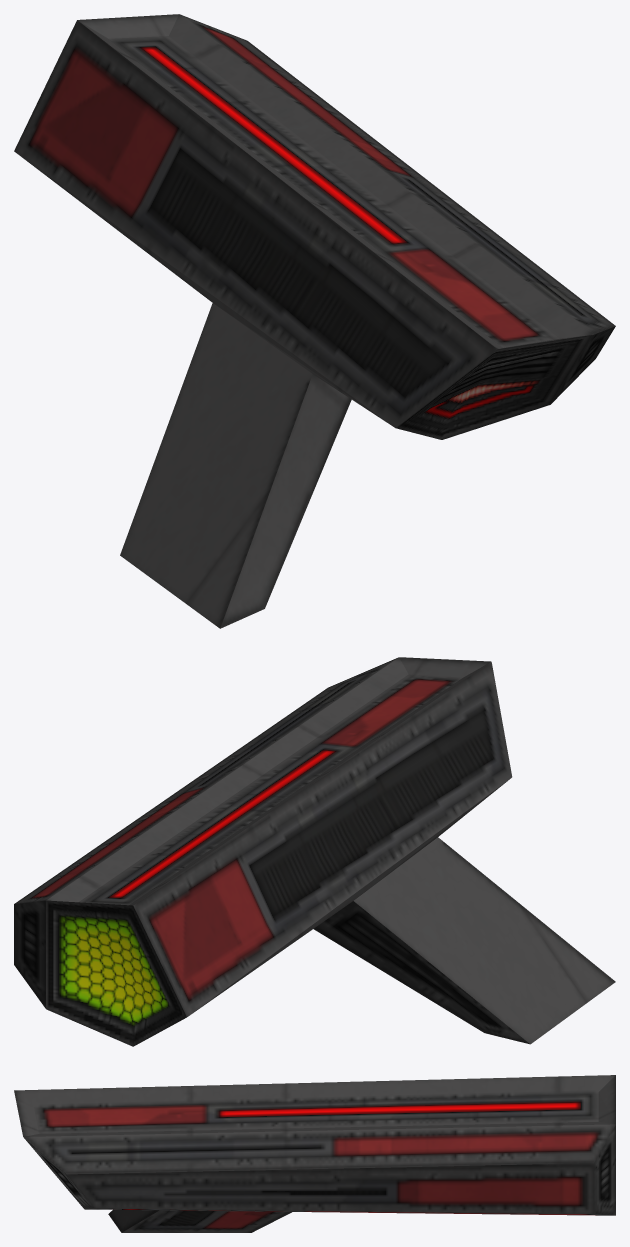
File: BFP_StrutEngine01_UpperLeft.FBX
3 renders of one model, top to bottom at view 1: azimuth 30°, elevation 25°; view 2: azimuth 150°, elevation 25°; view 3: azimuth 270°, elevation 25°, orthographic. The views are drawn at different scales.
Visible parts, largest first — view 1: BFP_StrutEngine01_UpperLeft; view 2: BFP_StrutEngine01_UpperLeft; view 3: BFP_StrutEngine01_UpperLeft.
Boxes of the visible parts, <box> form: BFP_StrutEngine01_UpperLeft: <box>14,14,615,628</box>; BFP_StrutEngine01_UpperLeft: <box>14,657,615,1046</box>; BFP_StrutEngine01_UpperLeft: <box>14,1075,615,1232</box>.
Size of the model in its own units: 693 by 537 by 1375.
1 material, 1 textured.
